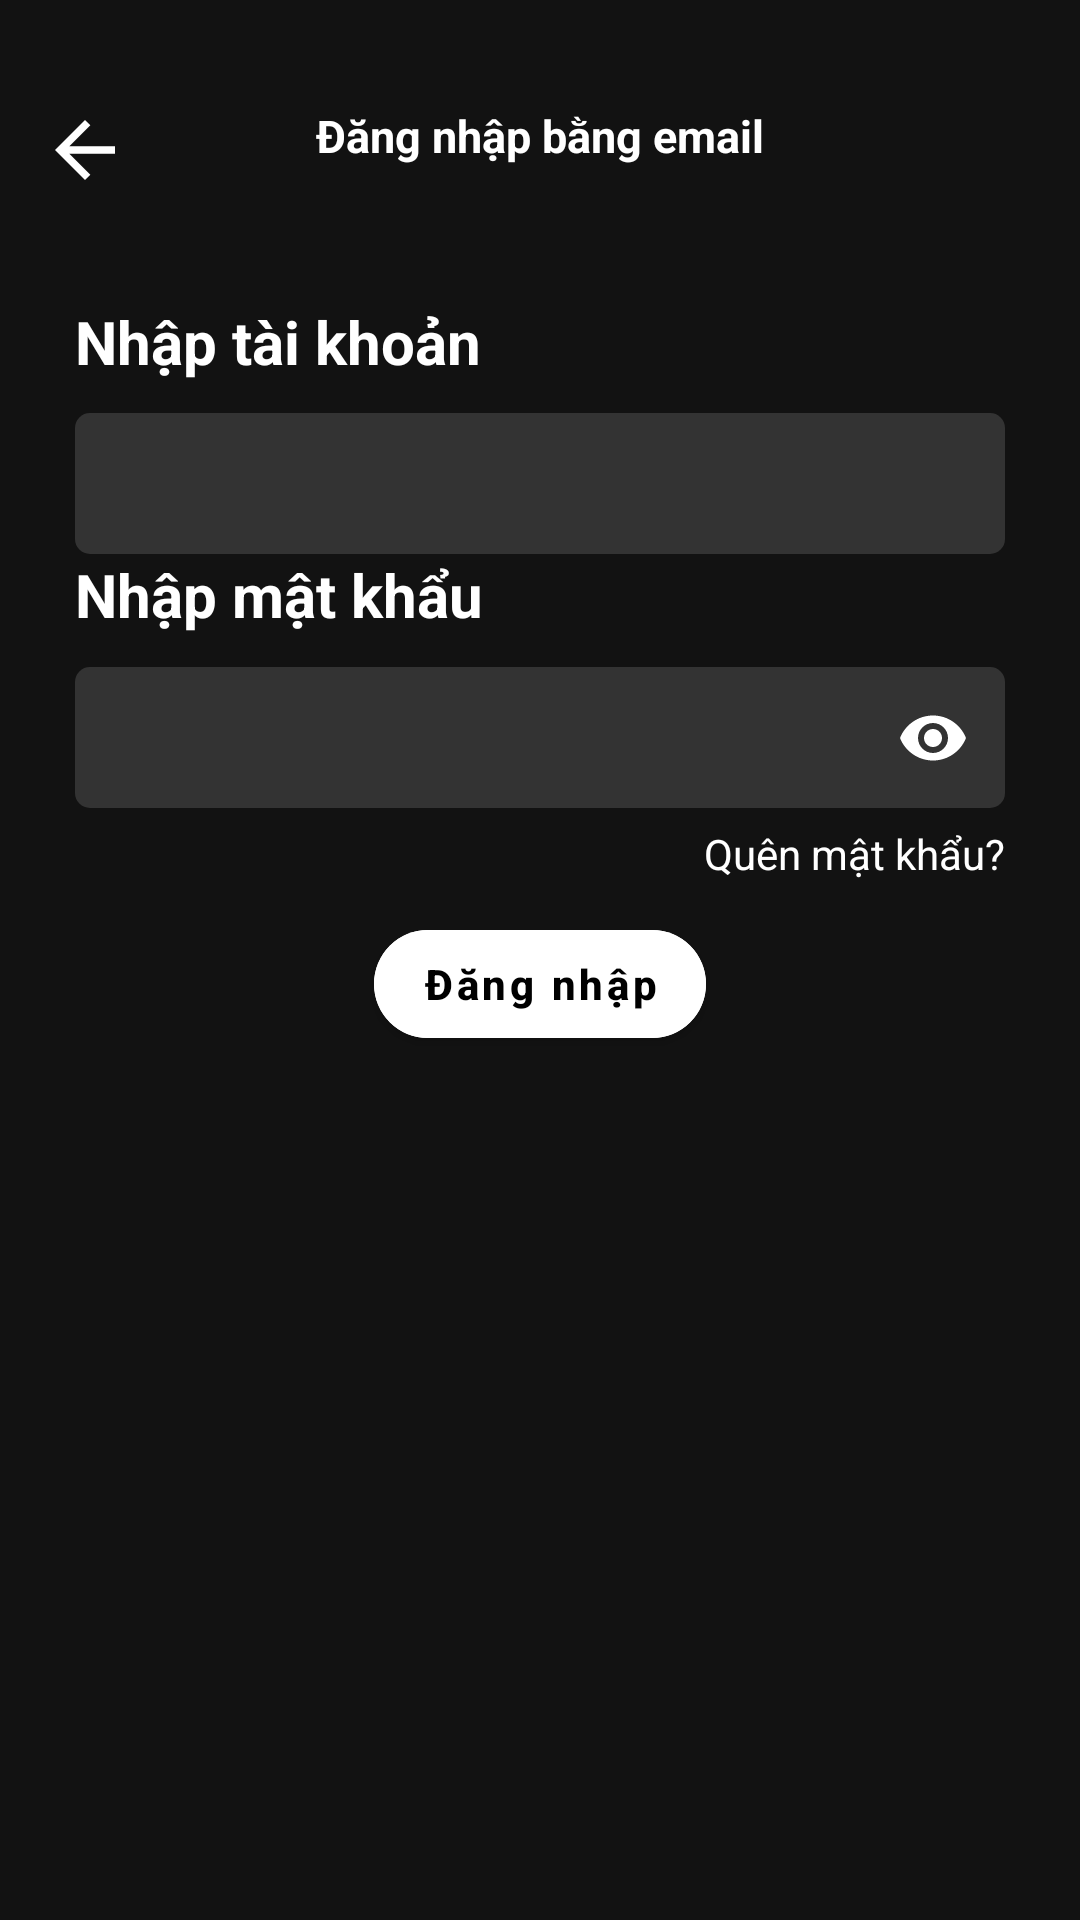

Icon bounding boxes for this 1080px x 1920px phone screenshot, format (x1, y1, x2, y2):
arrow back: (55, 120, 115, 180)
